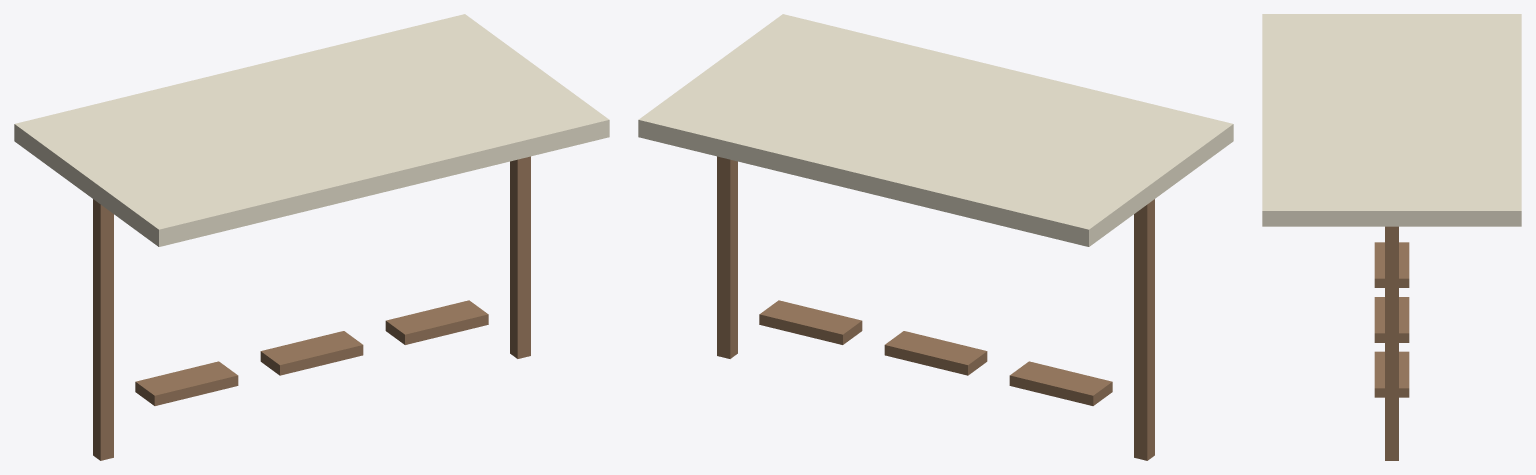
Rendered from shade-shelter.glb.
The picture shows the model from 3 angles, left to right: view 1: azimuth 30°, elevation 25°; view 2: azimuth 150°, elevation 25°; view 3: azimuth 270°, elevation 25°; orthographic projection. The views are drawn at different scales.
Bounding box in the file's own units: 5.4 × 3.25 × 3.
